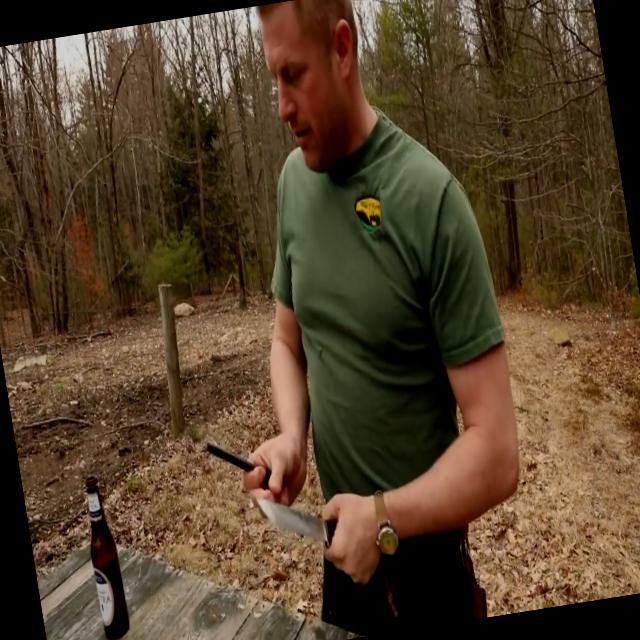knife: (245, 464, 378, 604)
